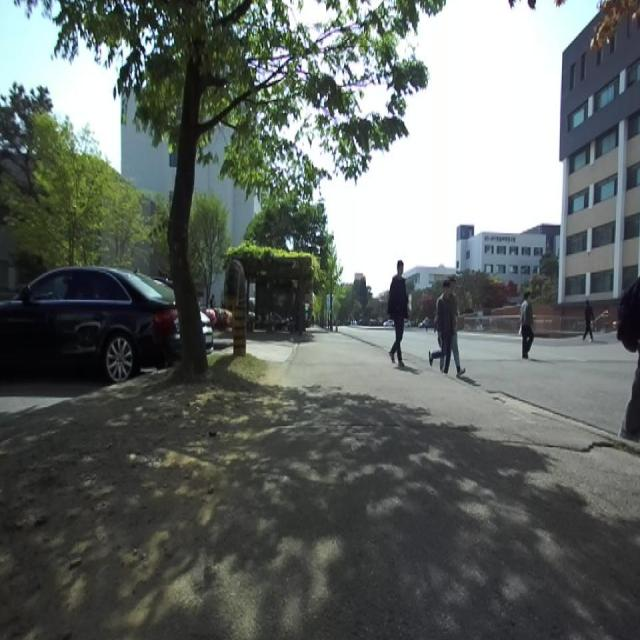sidewalk: (192, 332, 640, 640), (269, 333, 640, 638)
